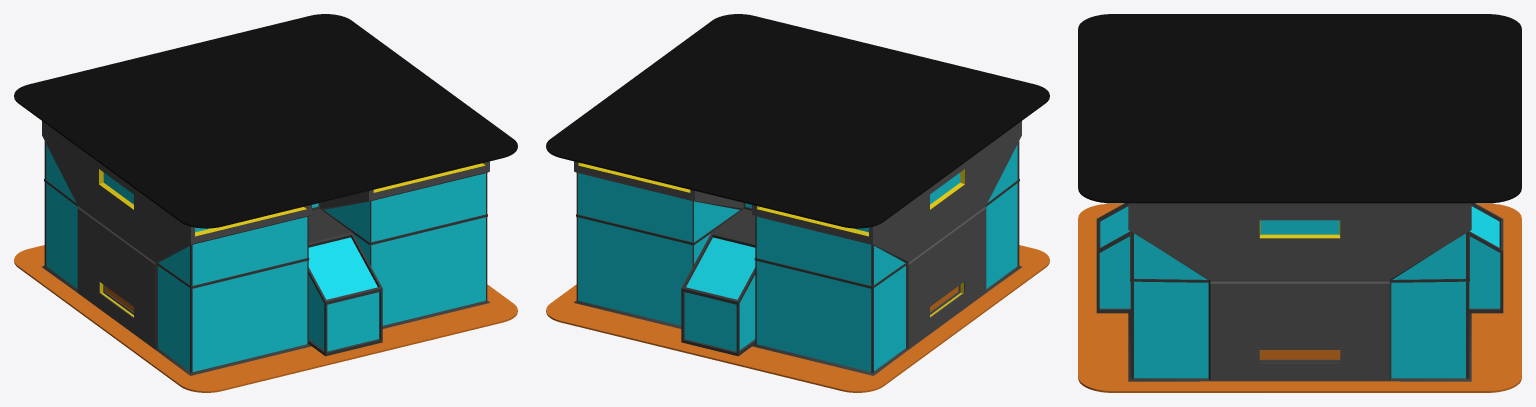
Rendered from SM_MK14_Middle_002.fbx.
The picture shows the model from 3 angles, left to right: view 1: azimuth 30°, elevation 25°; view 2: azimuth 150°, elevation 25°; view 3: azimuth 270°, elevation 25°; orthographic projection. The views are drawn at different scales.
Parts seen in each view (by area): view 1: SM_MK14_Middle_002; view 2: SM_MK14_Middle_002; view 3: SM_MK14_Middle_002.
Part boxes in pixels (left/top/right/bottom): SM_MK14_Middle_002: left=14, top=14, right=517, bottom=392; SM_MK14_Middle_002: left=546, top=14, right=1049, bottom=392; SM_MK14_Middle_002: left=1078, top=14, right=1521, bottom=392.
Size of the model in its own units: 2100 by 1000 by 2100.
